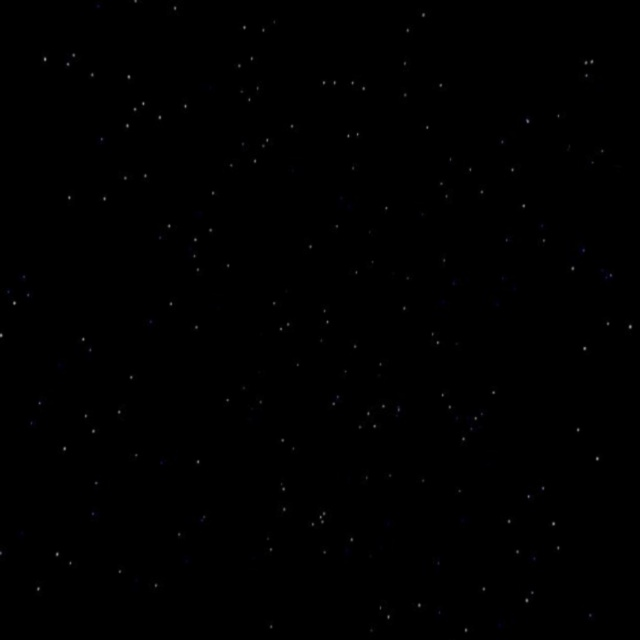satellite: (501, 111, 640, 243)
